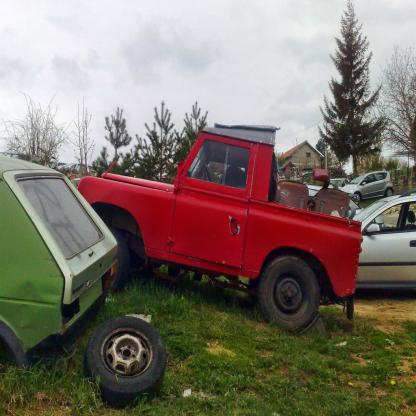Truck: (77, 122, 364, 334)
